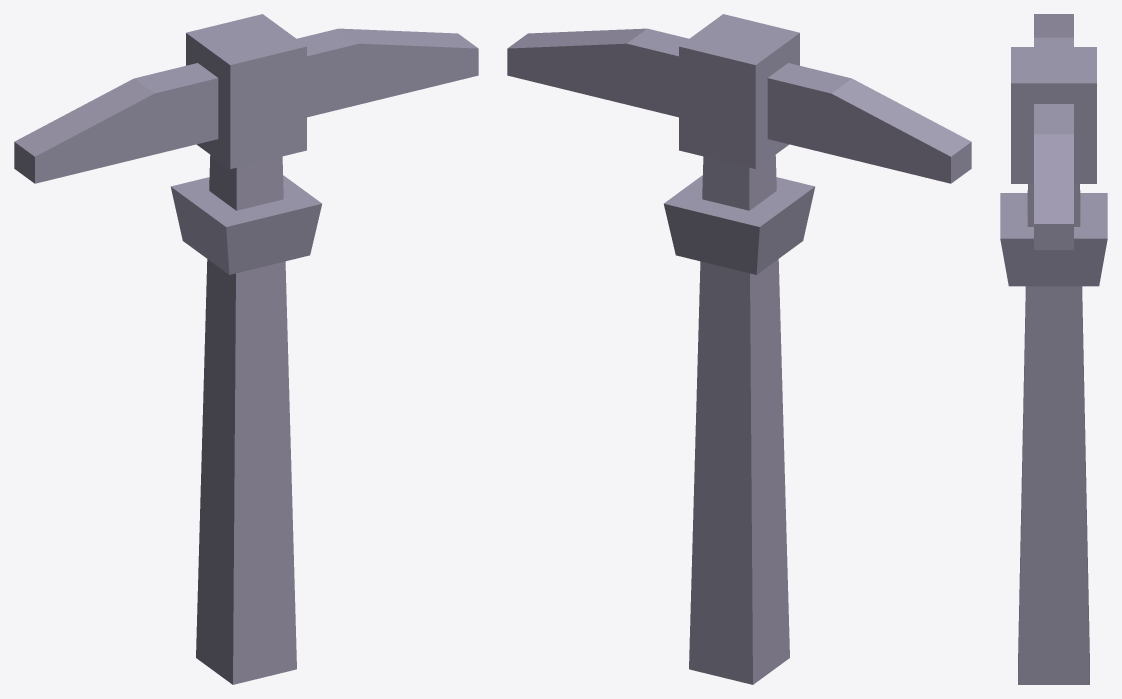
Rendered from tool-pickaxe.obj.
3 views of the same model, side by side, from view 1: azimuth 30°, elevation 25°; view 2: azimuth 150°, elevation 25°; view 3: azimuth 270°, elevation 25° (orthographic). The views are drawn at different scales.
Size of the model in its own units: 0.1786 by 0.24 by 0.0387.
